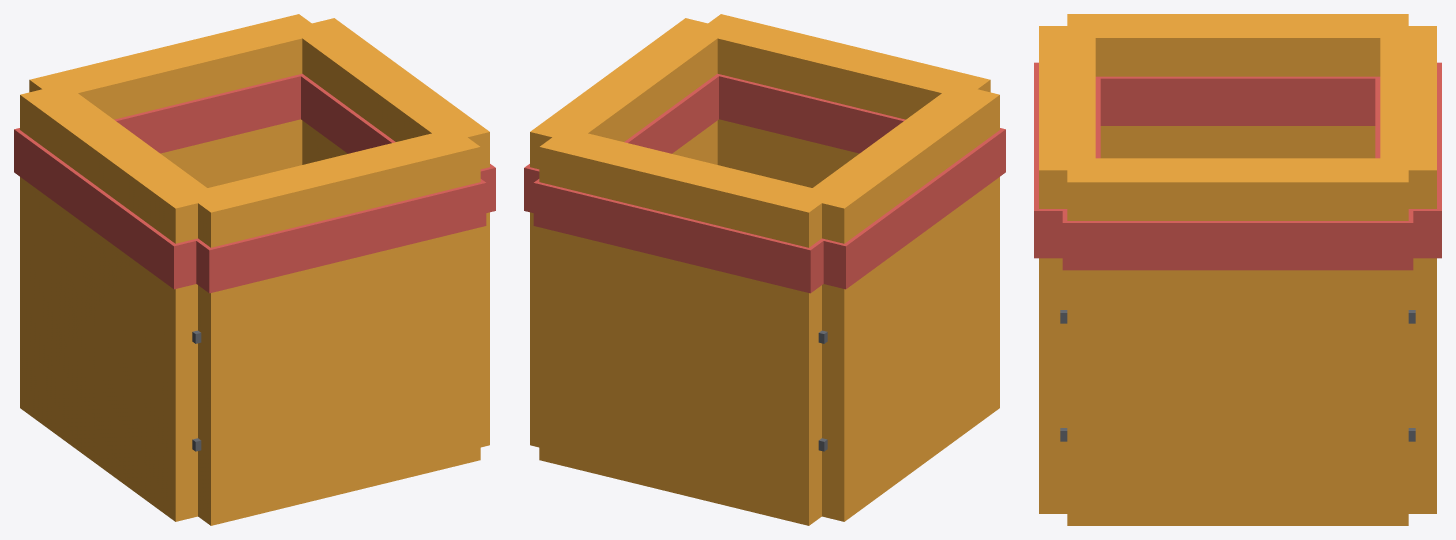
The model's file is ski-resort-and-snow-park-hazard-padding-b86c90e6__25984.glb.
The picture shows the model from 3 angles, left to right: view 1: azimuth 30°, elevation 25°; view 2: azimuth 150°, elevation 25°; view 3: azimuth 270°, elevation 25°; orthographic projection. The views are drawn at different scales.
Parts seen in each view (by area): view 1: hazard-padding; view 2: hazard-padding; view 3: hazard-padding.
Boxes of the visible parts, x1,y1,x2,y2 form: hazard-padding: [14, 14, 495, 525]; hazard-padding: [524, 14, 1005, 525]; hazard-padding: [1034, 14, 1441, 525].
Size of the model in its own units: 1.72 by 1.6 by 1.72.
